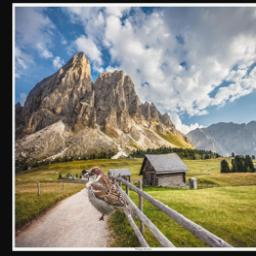Sparrow: (84, 167, 137, 222)
